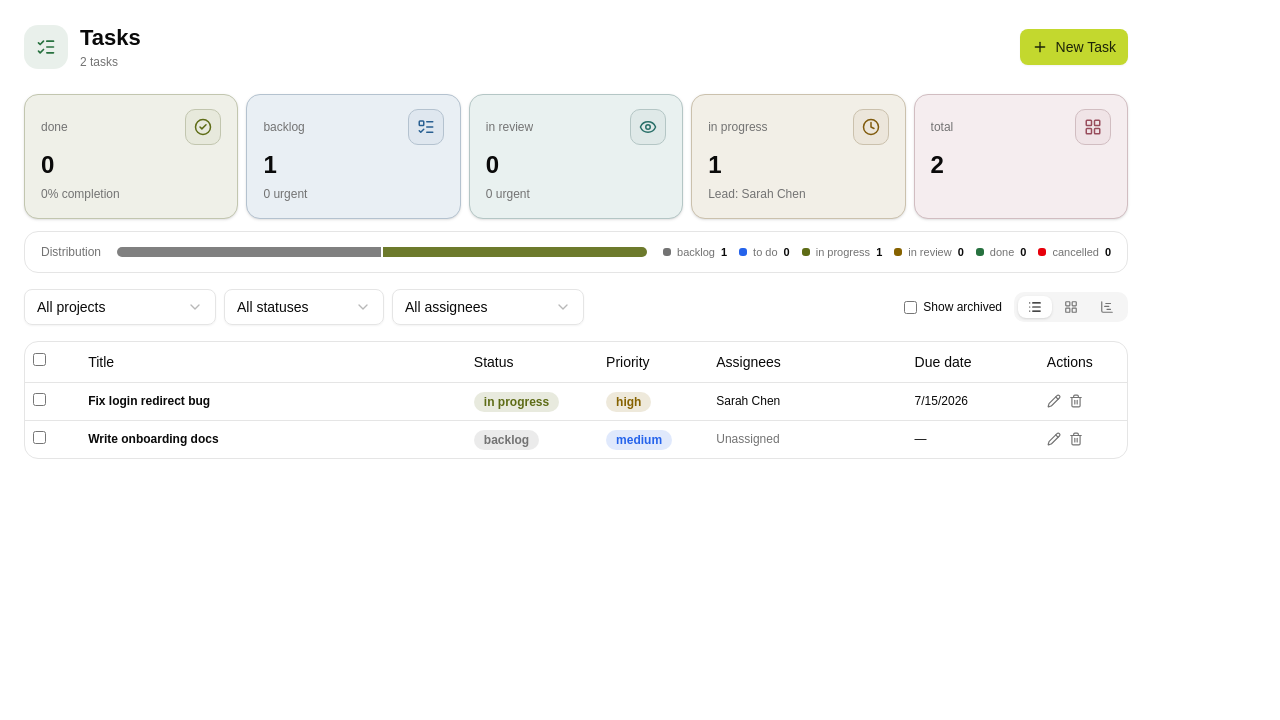
Scenario: Tasks — list/board view toggle › switches to the board view and renders status columns
Expected: the text "Fix login redirect bug" is shown, x1=88 y1=393 x2=210 y2=409
Click the button named "board view" at (1071, 307), box x1=1054 y1=296 x2=1088 y2=318
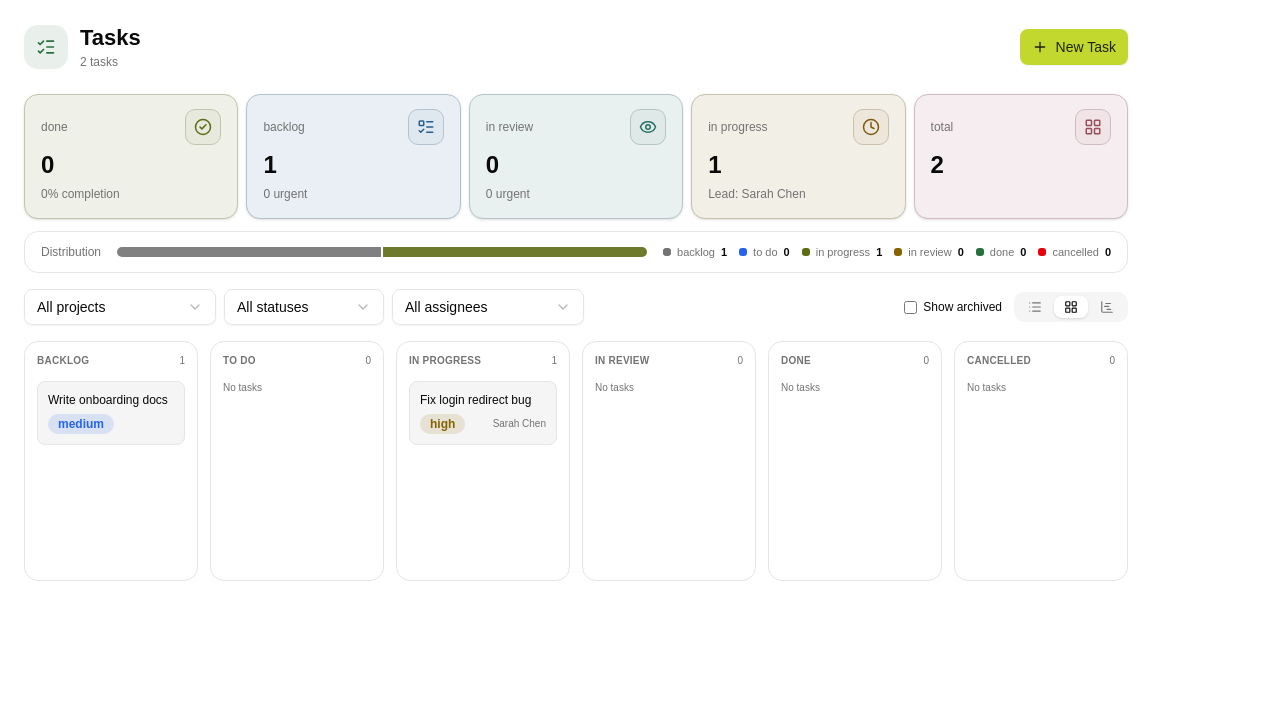
Expected: the heading "In Progress" is shown, x1=409 y1=354 x2=481 y2=369
Now the column heading "Title" is gone
